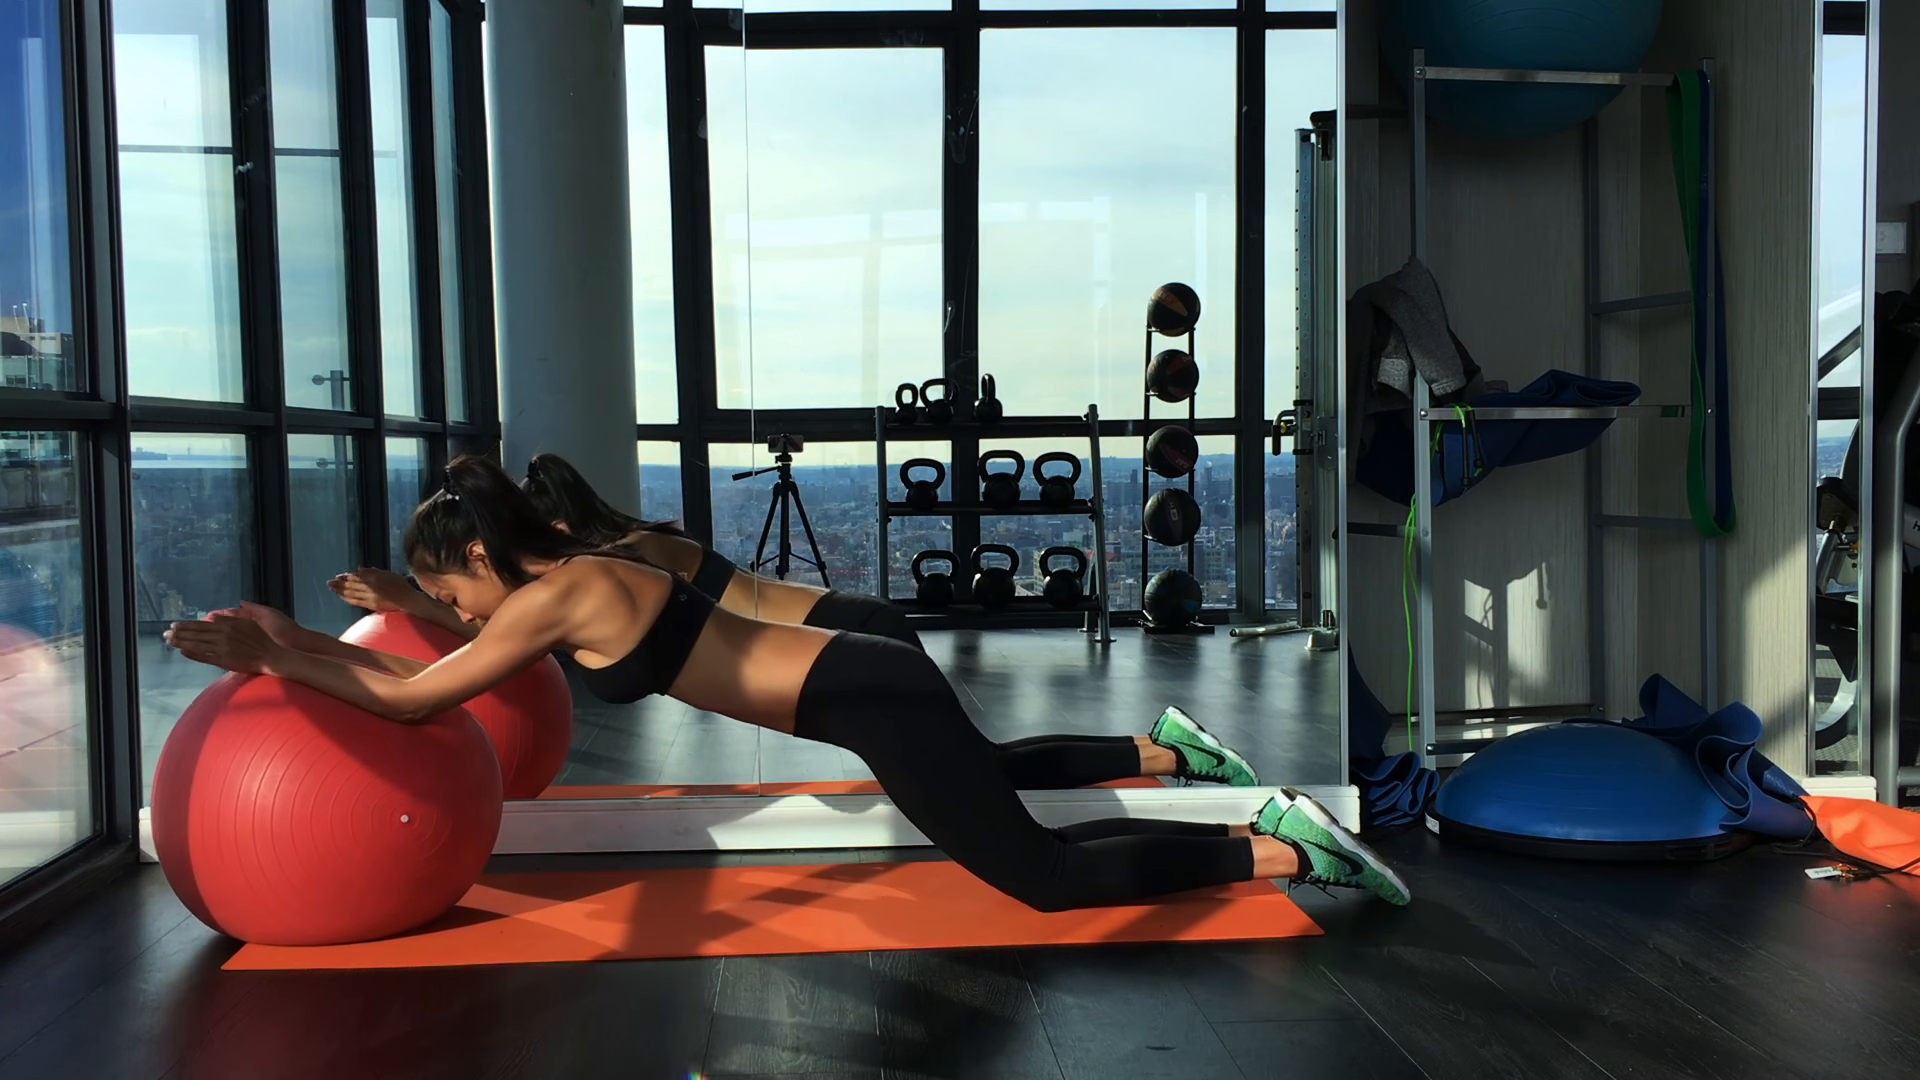yogaball: (142, 644, 514, 951)
